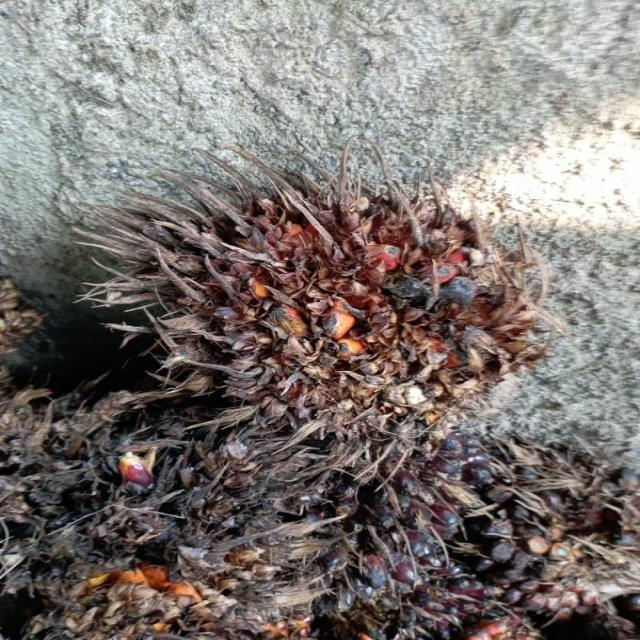fraksi 4: (78, 133, 570, 503)
